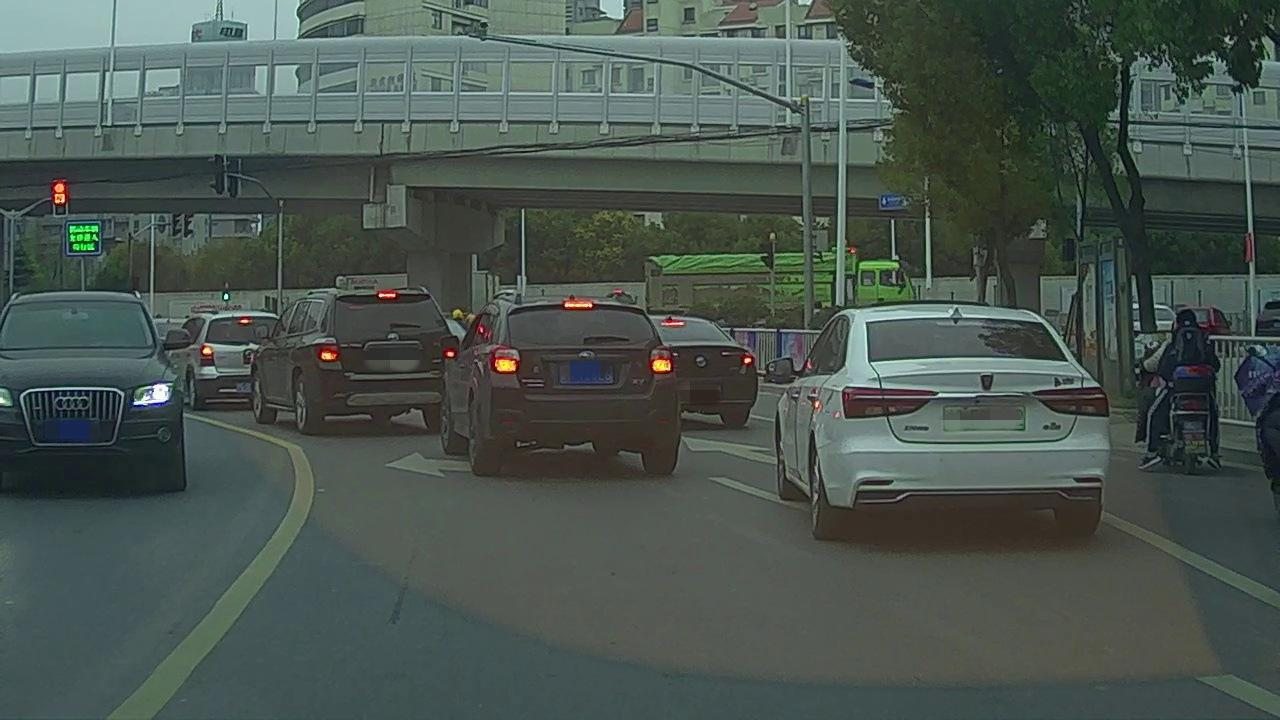traffic_light: (54, 181, 66, 213)
